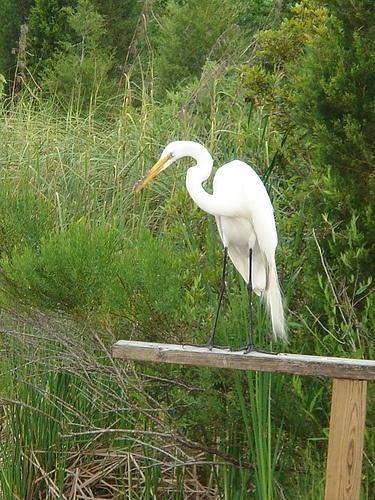bird: (135, 141, 292, 360)
